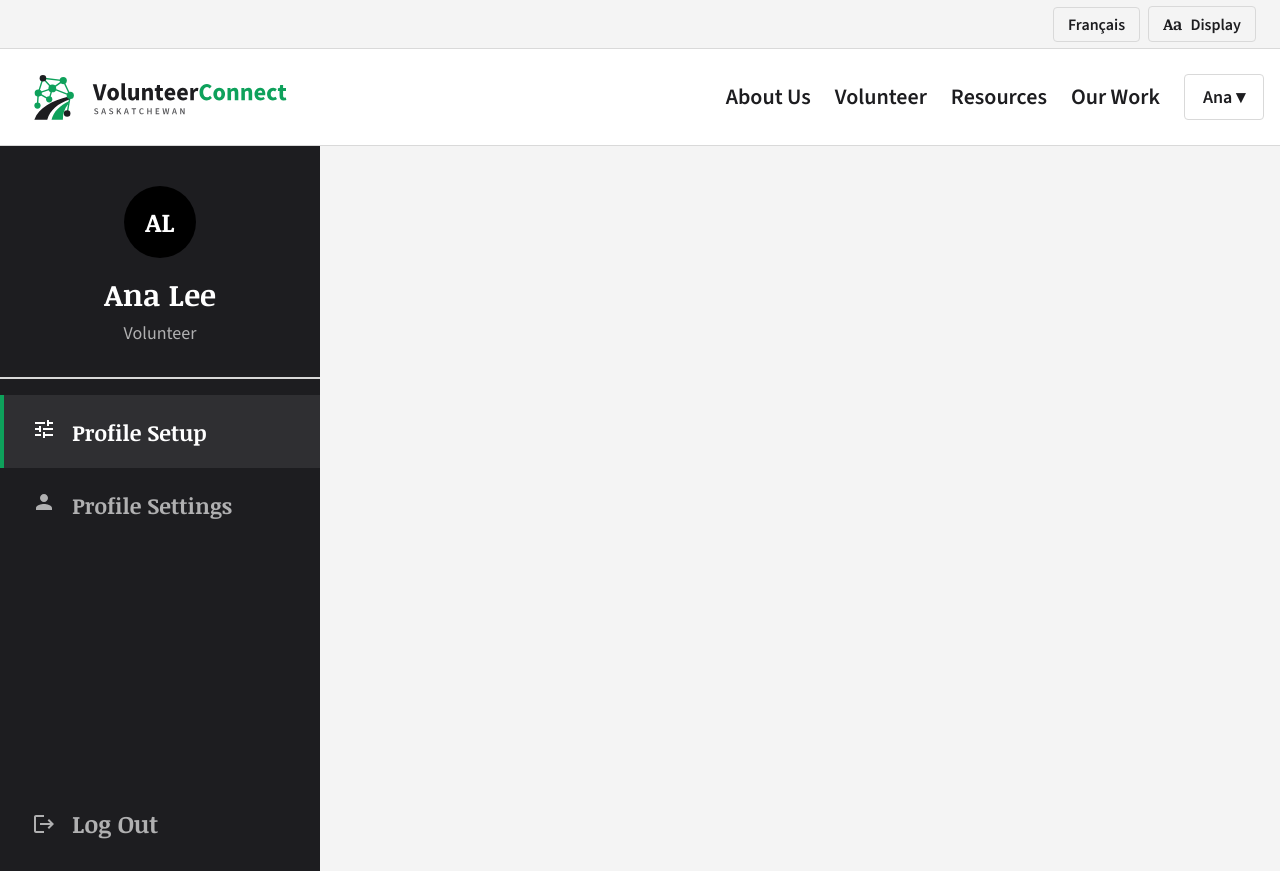
Test: loads the profile from the API and saves edits through it
The width and height of the screenshot is (1280, 871).
Click the text "Profile Settings".
click(132, 504)  # box left=32, top=490, right=232, bottom=520
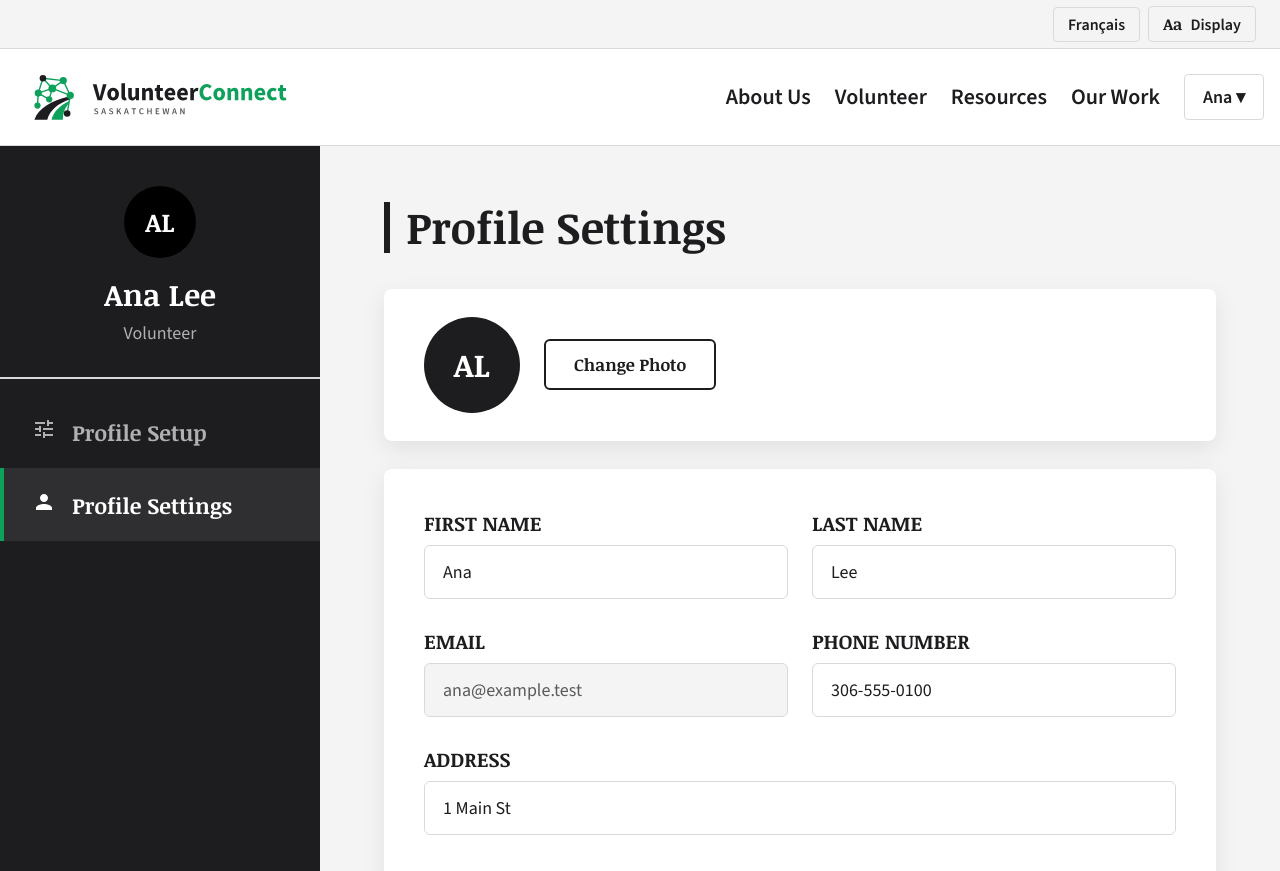
Replace the text in the field showing "306-555-0100" below "Phone Number" with "306-555-0199" at (994, 690), box left=812, top=663, right=1176, bottom=717
(page scrolled)
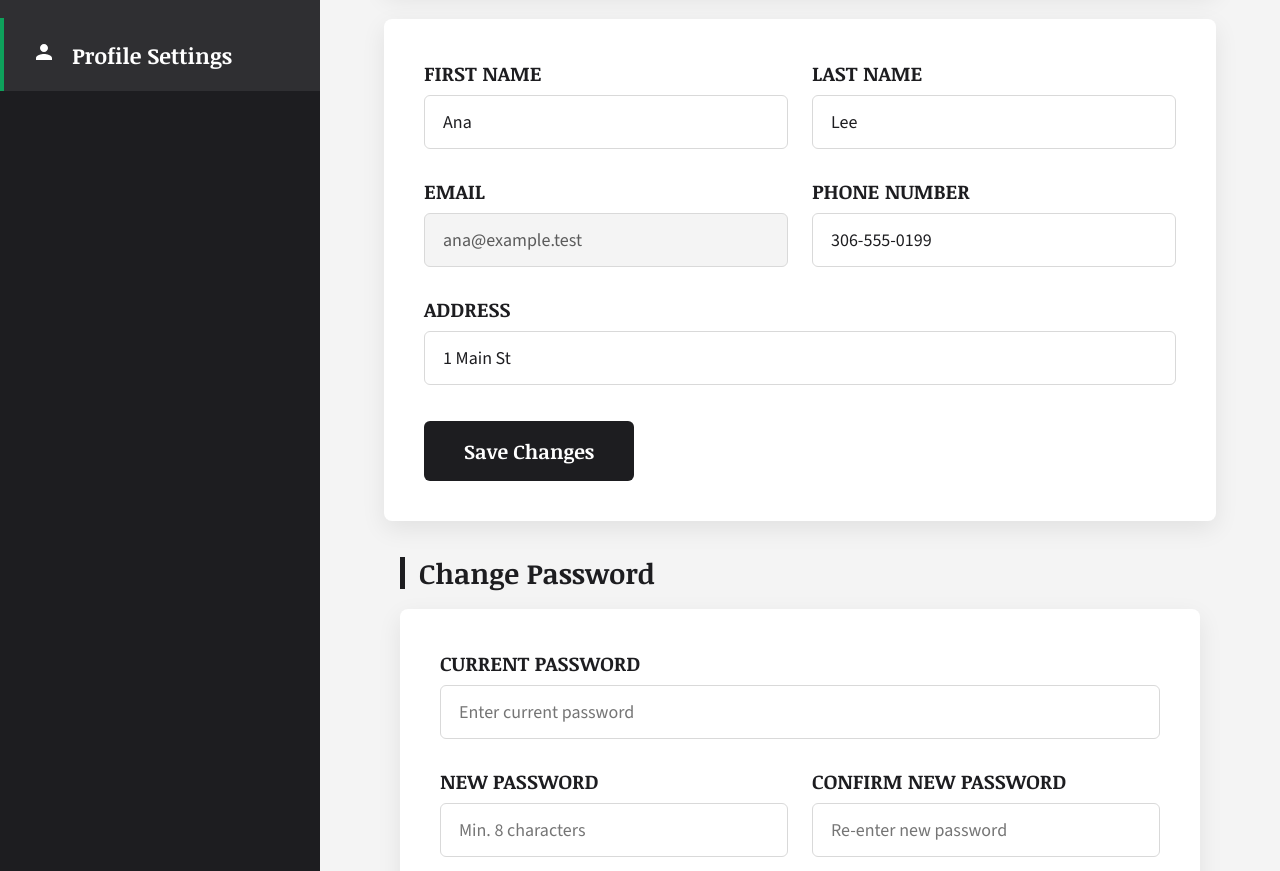
Click the button "Save Changes".
click(529, 451)  # box left=424, top=421, right=634, bottom=481
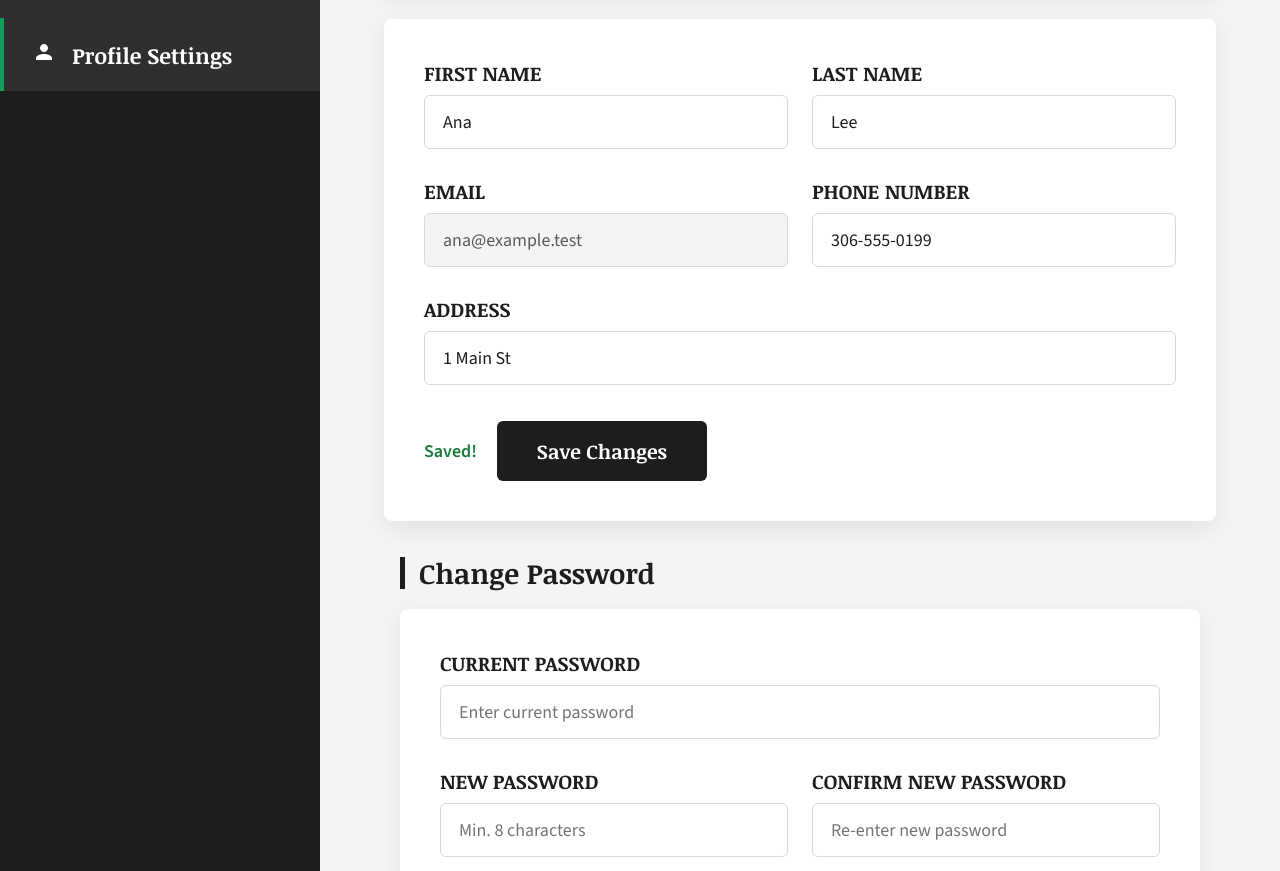
Expected: the text "Saved!" is shown, left=424, top=439, right=477, bottom=463
